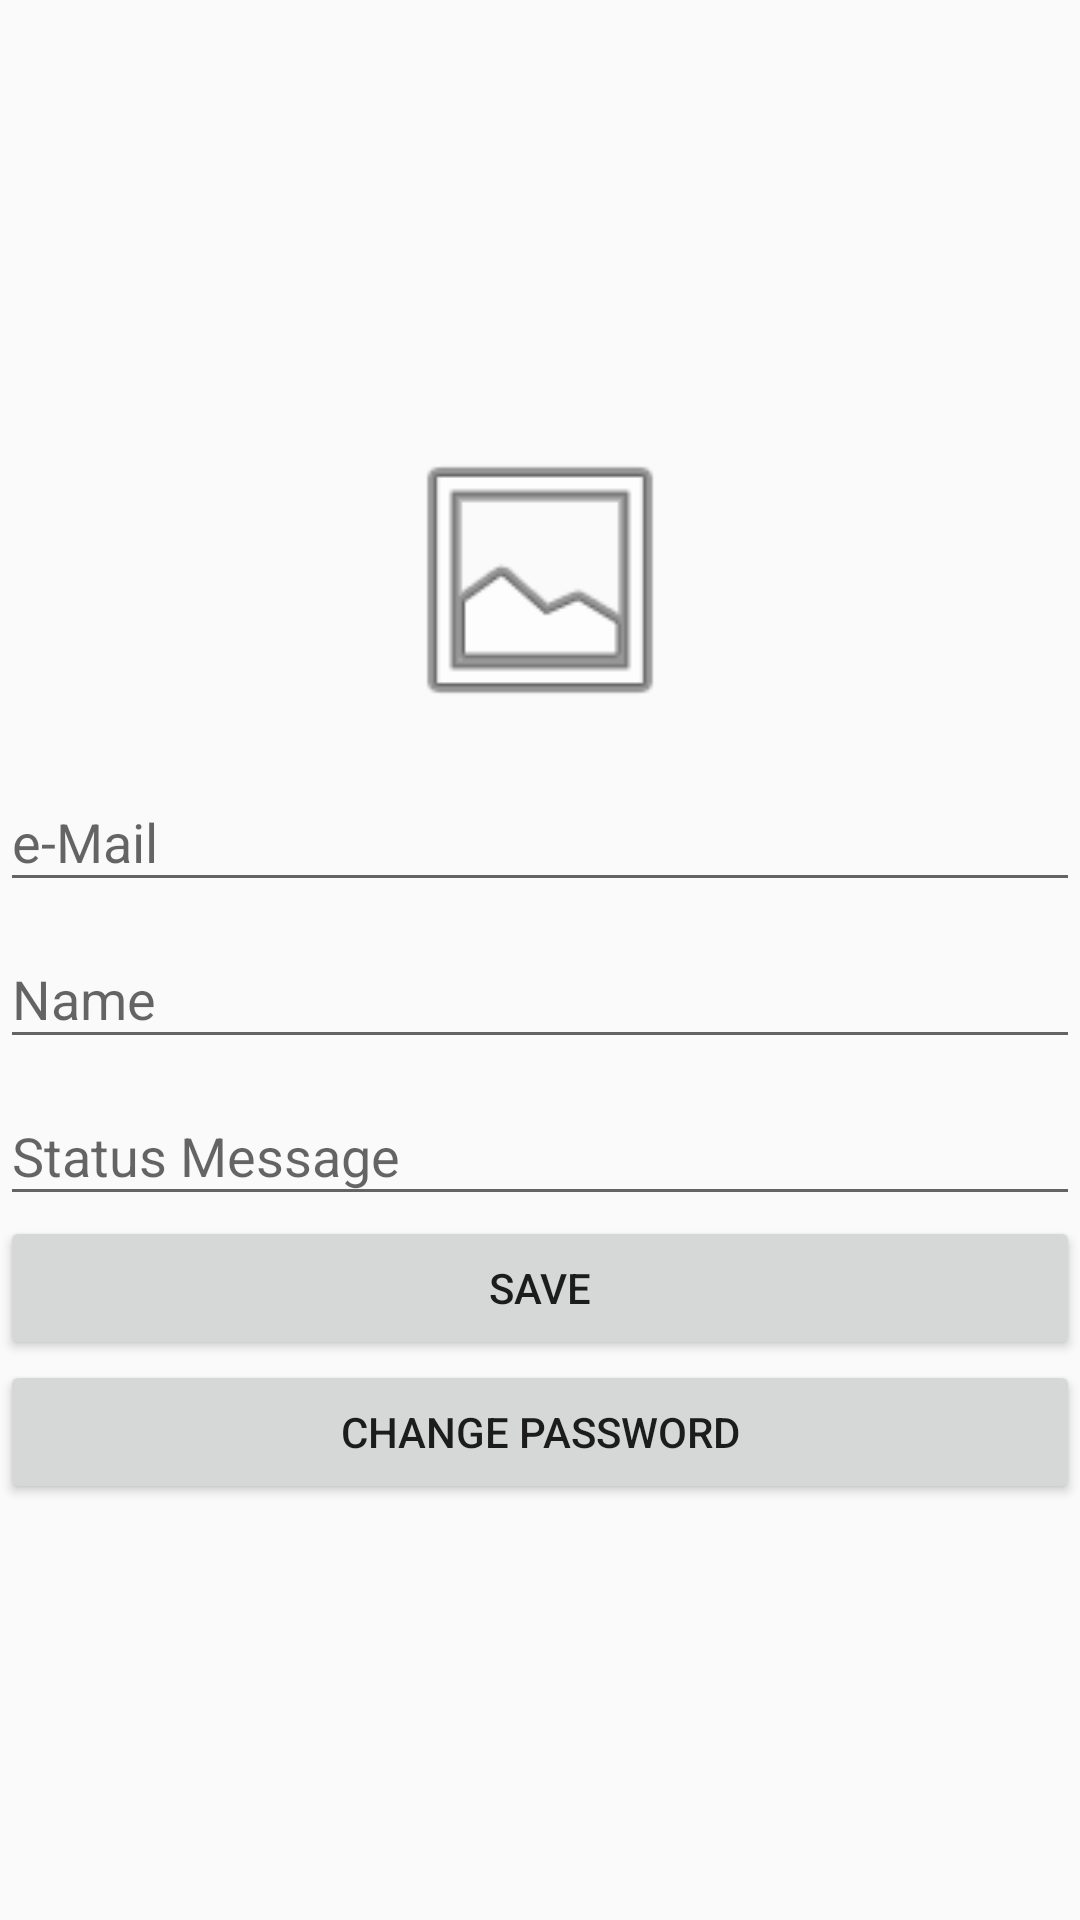

Point at icon controls on the screen. Image size 1080*1920, points as [x,y].
gallery: [540,580]
